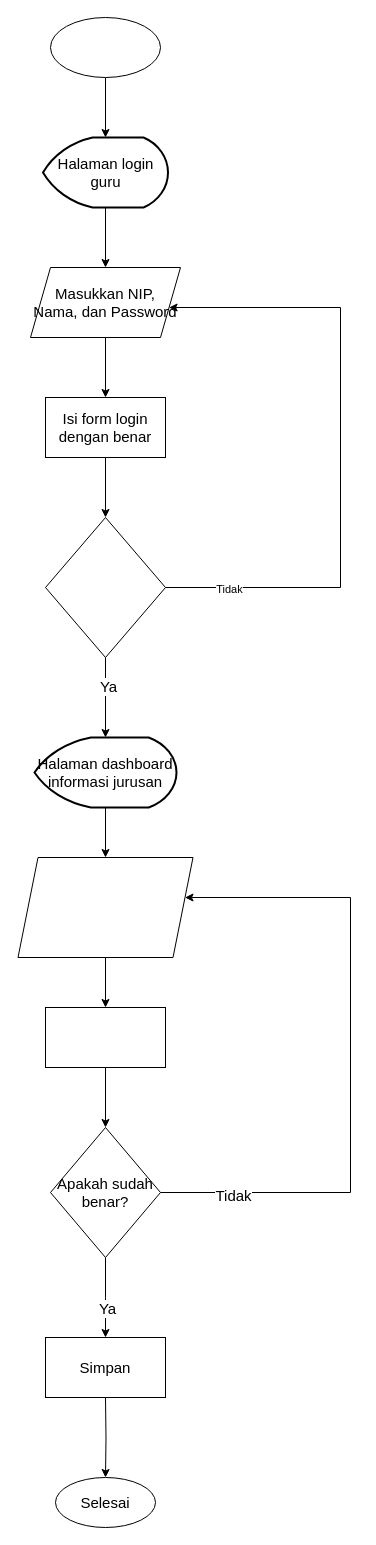
Some shapes in this 376 by 1545 pixel diagram are drawn without their labels. Each missing label, with the box of its shape:
Apakah sudah berhasil?: (44, 516, 166, 658)
Cek data guru: (44, 1006, 166, 1068)
Masukkan NIP, nama, jk, agama, alamat: (17, 856, 193, 958)
Mulai: (50, 16, 160, 78)
